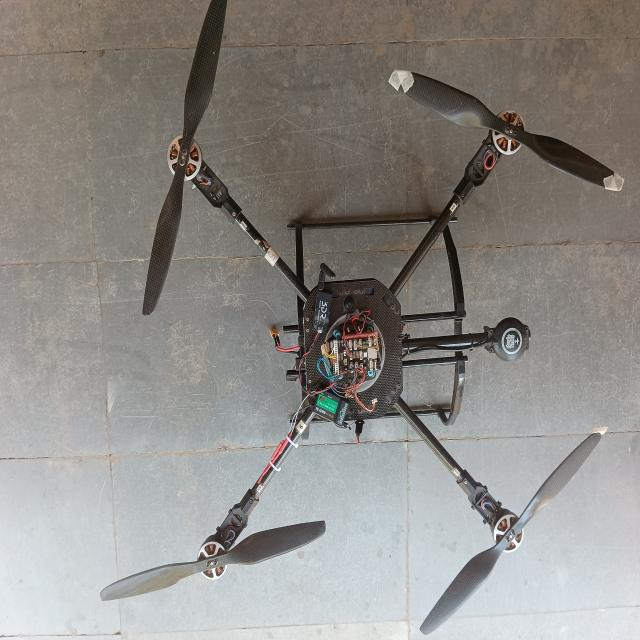drone: (98, 0, 633, 640)
